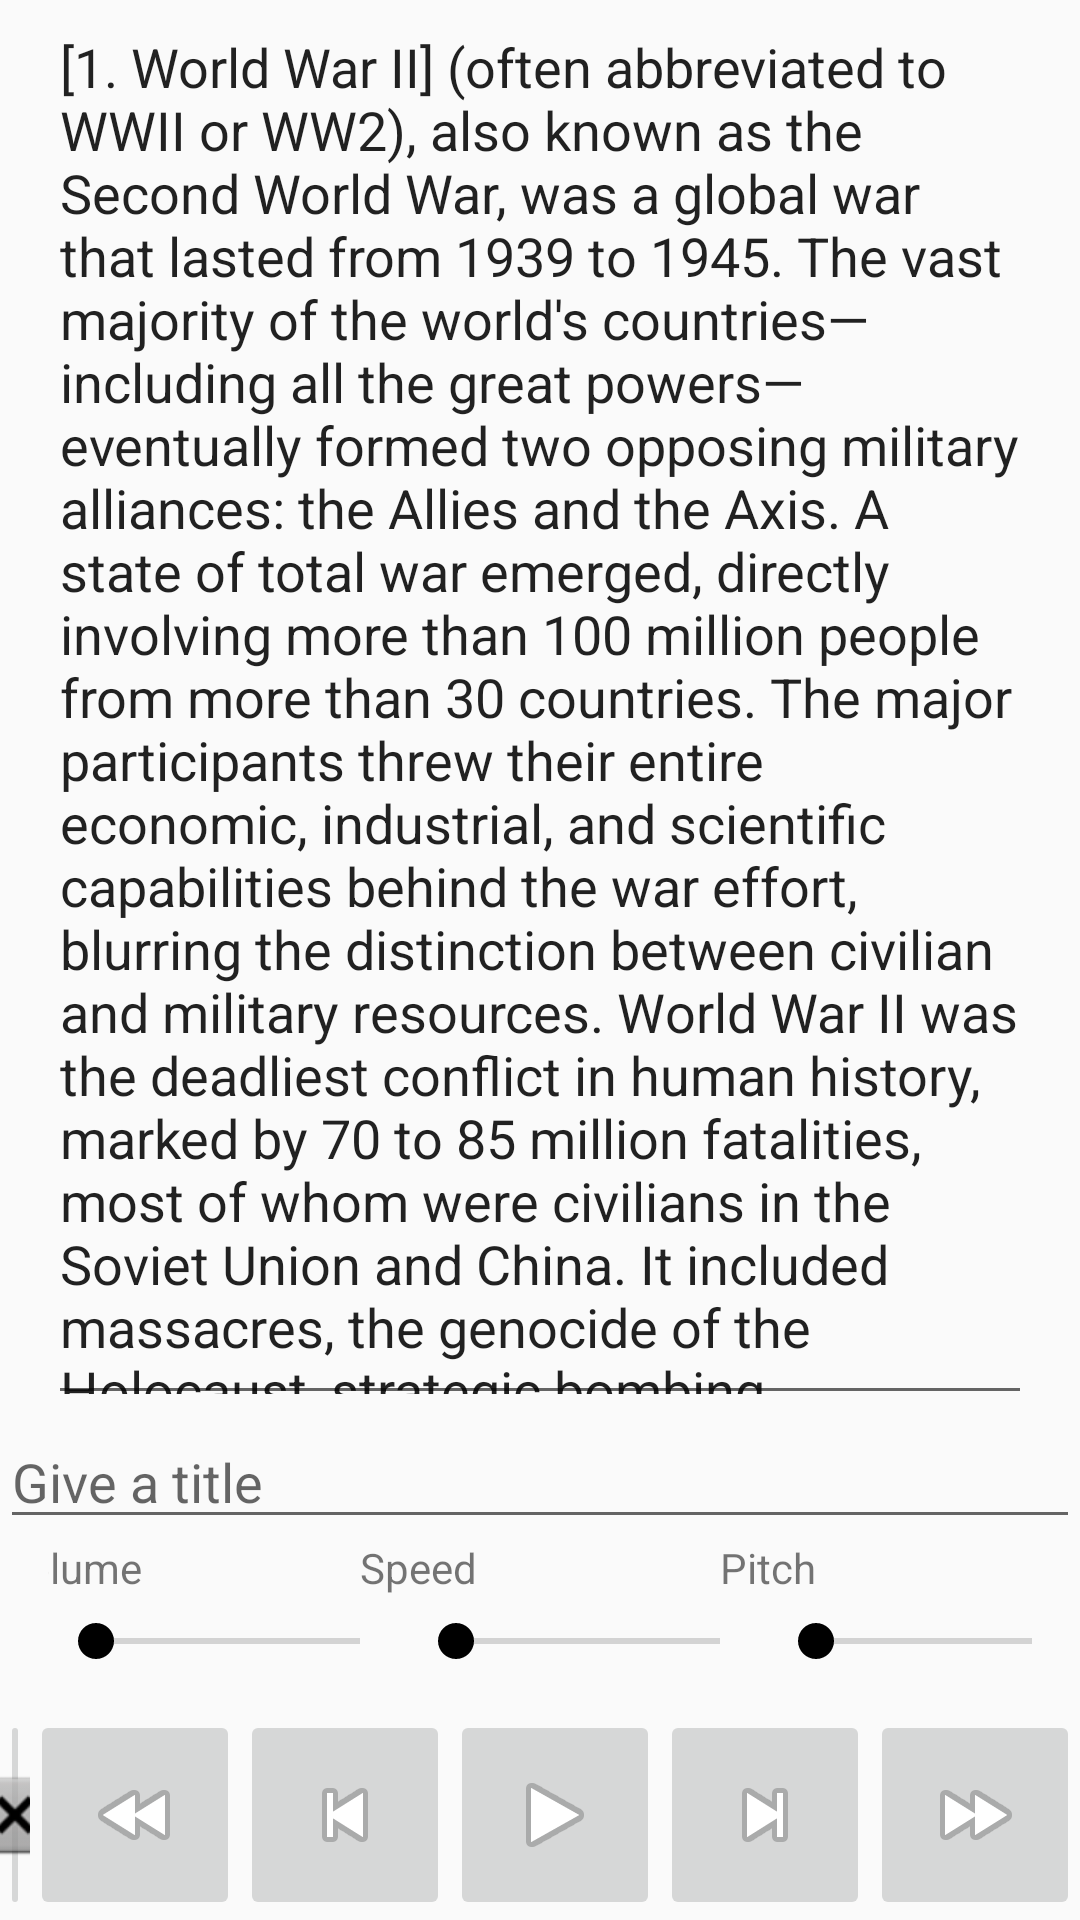

Icons on this 1080px×1920px Android screen, each with its box as (x1, y1, x2, y2):
next: (672, 1728, 858, 1902)
play: (462, 1728, 648, 1902)
previous: (252, 1728, 438, 1902)
rew: (42, 1728, 228, 1902)
